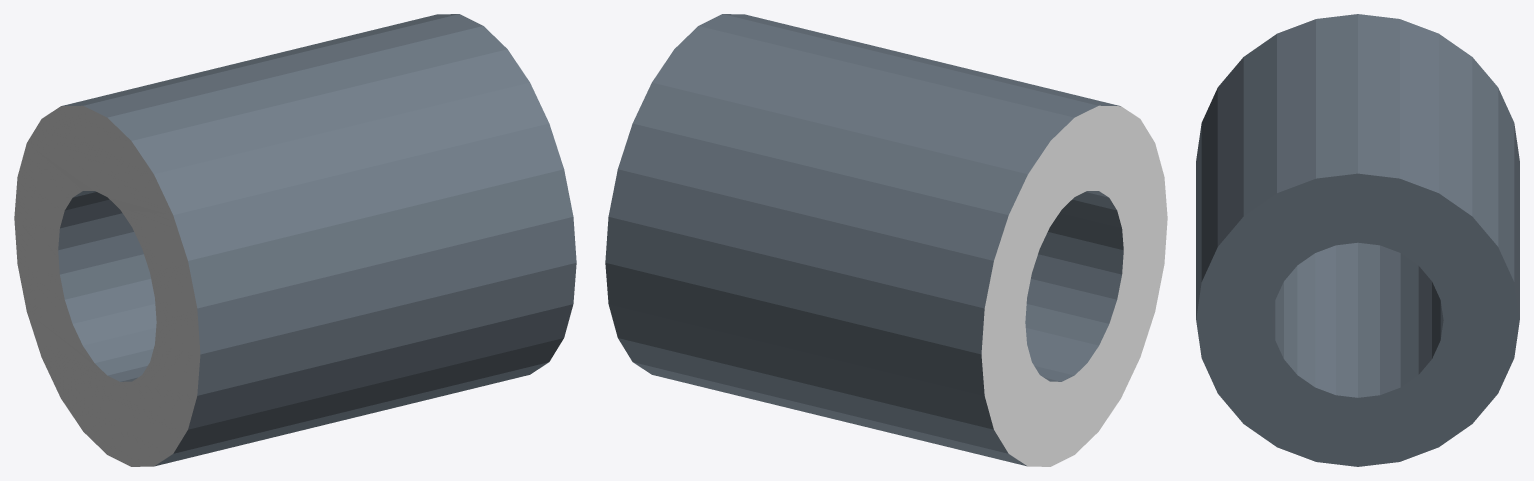
The model's file is Barrel_B.fbx.
The picture shows the model from 3 angles, left to right: view 1: azimuth 30°, elevation 25°; view 2: azimuth 150°, elevation 25°; view 3: azimuth 270°, elevation 25°; orthographic projection. The views are drawn at different scales.
Parts seen in each view (by area): view 1: polySurface10; view 2: polySurface10; view 3: polySurface10.
Boxes of the visible parts, x1=… form: polySurface10: x1=14, y1=14, x2=576, y2=466; polySurface10: x1=605, y1=14, x2=1167, y2=466; polySurface10: x1=1196, y1=14, x2=1519, y2=466.
Bounding box in the file's own units: 7 × 6 × 6.
